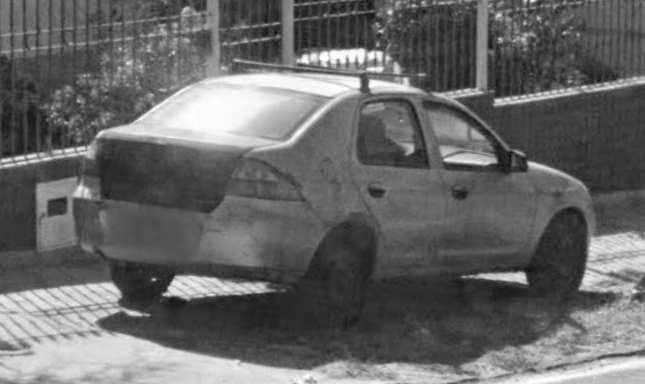car: (74, 71, 598, 323)
